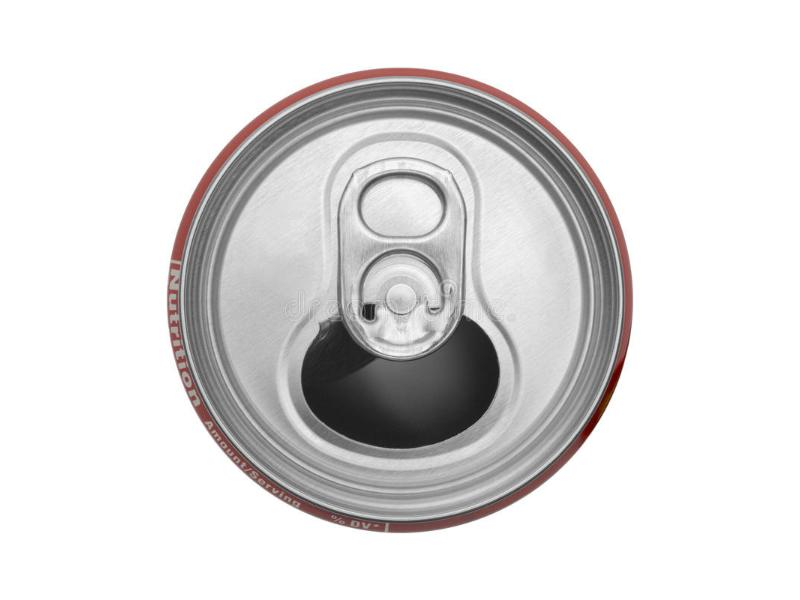can: (158, 52, 638, 542)
